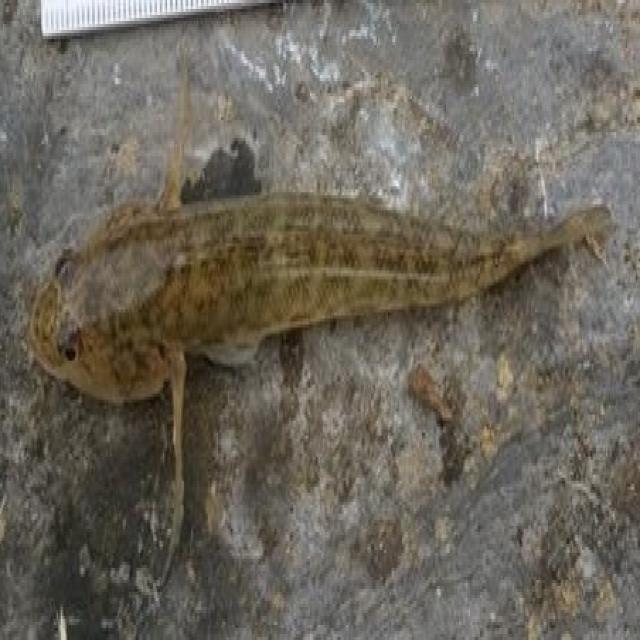Goby: (11, 35, 610, 561)
